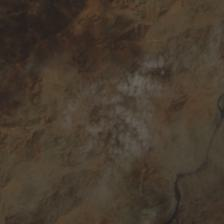landslides: (0, 128, 12, 137)
